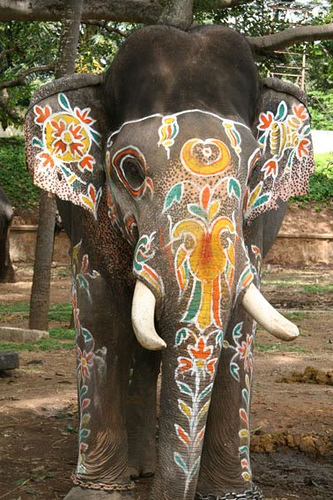elephant: (23, 21, 316, 500)
